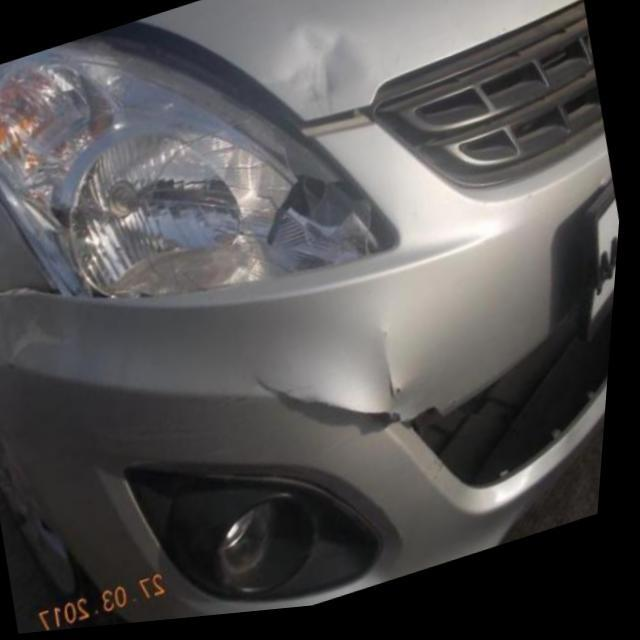crack: (258, 369, 455, 449), (378, 331, 417, 415)
dent: (268, 21, 370, 125)
dislocated part: (0, 278, 80, 315)
lamp broken: (43, 104, 400, 306)
